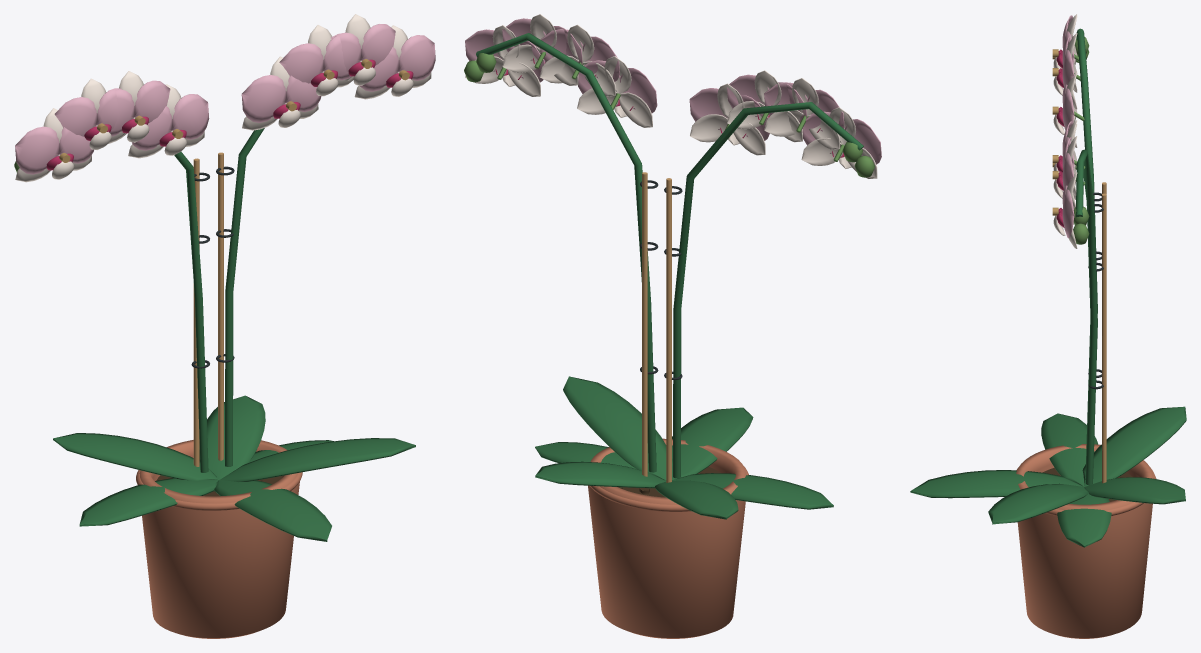
File: potted-moth-orchid.glb
The picture shows the model from 3 angles, left to right: view 1: azimuth 30°, elevation 25°; view 2: azimuth 150°, elevation 25°; view 3: azimuth 270°, elevation 25°; orthographic projection. The views are drawn at different scales.
Parts seen in each view (by area): view 1: catalog_surface_RealismUV; view 2: catalog_surface_RealismUV; view 3: catalog_surface_RealismUV.
Part boxes in pixels (x1,y1,x2,y2): catalog_surface_RealismUV: (14, 14, 435, 638); catalog_surface_RealismUV: (464, 14, 881, 638); catalog_surface_RealismUV: (910, 14, 1186, 638).
Bounding box in the file's own units: 0.48 × 0.625 × 0.29.
